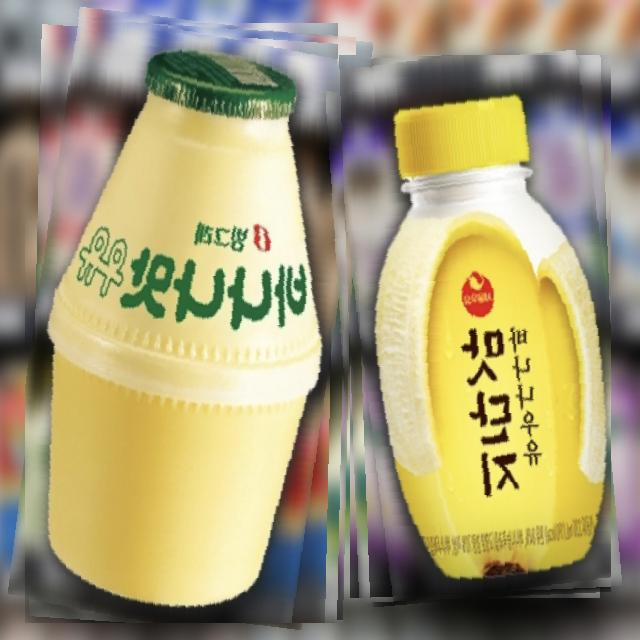recyclable: (25, 15, 356, 623), (339, 55, 611, 603)
